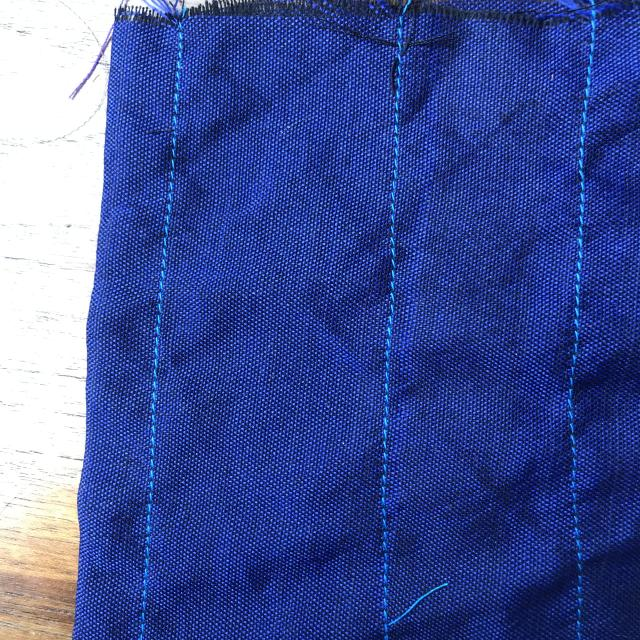good: (354, 374, 408, 517), (378, 156, 409, 324), (561, 187, 591, 355)
